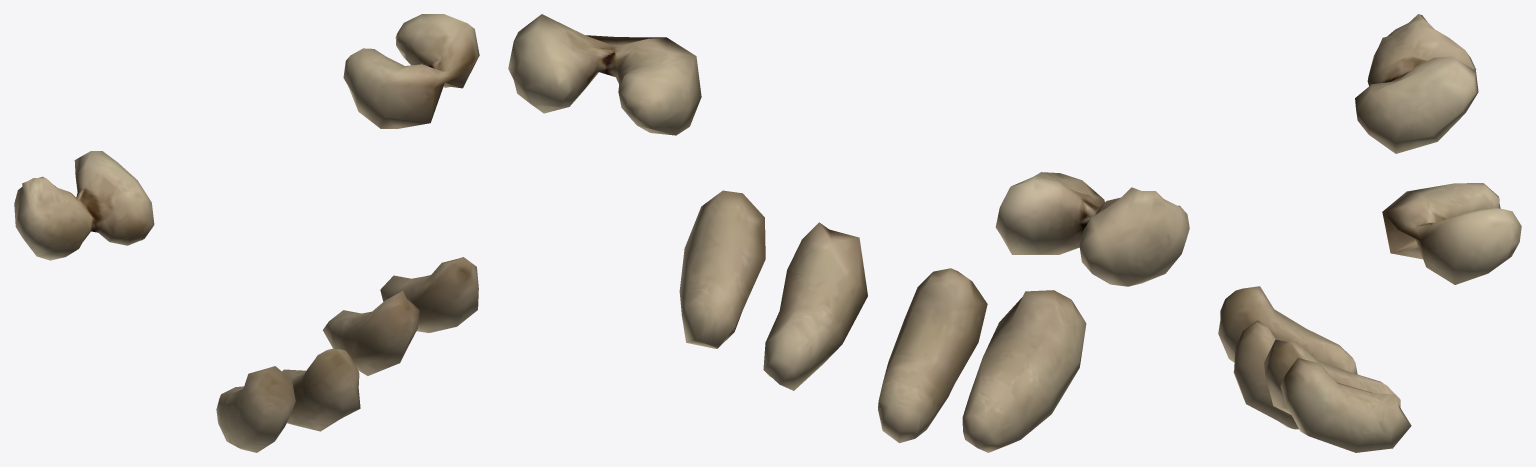
The model's file is Proximal_Sesamoid.glb.
3 views of the same model, side by side, from view 1: azimuth 30°, elevation 25°; view 2: azimuth 150°, elevation 25°; view 3: azimuth 270°, elevation 25° (orthographic). The views are drawn at different scales.
Parts seen in each view (by area): view 1: polySurface72, polySurface67, polySurface69, polySurface68, polySurface70, polySurface71; view 2: polySurface67, polySurface72, polySurface68, polySurface70, polySurface69, polySurface71; view 3: polySurface67, polySurface72, polySurface71, polySurface68, polySurface70, polySurface69.
Boxes of the visible parts, x1,y1,x2,y2 form: polySurface72: (343, 14, 479, 128); polySurface67: (14, 151, 154, 260); polySurface69: (323, 291, 419, 375); polySurface68: (216, 366, 295, 452); polySurface70: (282, 347, 360, 431); polySurface71: (380, 257, 478, 332); polySurface67: (995, 172, 1189, 286); polySurface72: (508, 14, 701, 135); polySurface68: (962, 290, 1086, 452); polySurface70: (878, 268, 987, 443); polySurface69: (763, 222, 867, 390); polySurface71: (679, 190, 765, 348); polySurface67: (1355, 14, 1478, 153); polySurface72: (1382, 183, 1521, 284); polySurface71: (1280, 358, 1411, 452); polySurface68: (1218, 286, 1357, 374); polySurface70: (1233, 320, 1298, 429); polySurface69: (1264, 339, 1400, 414).
Bounding box in the file's own units: 37.57 × 22.97 × 18.69.
1 material, 1 textured.
